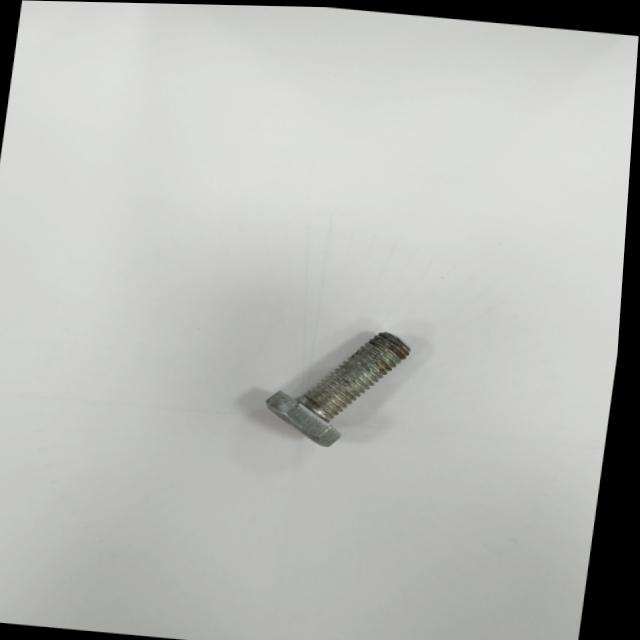Bolt: (270, 331, 415, 445)
